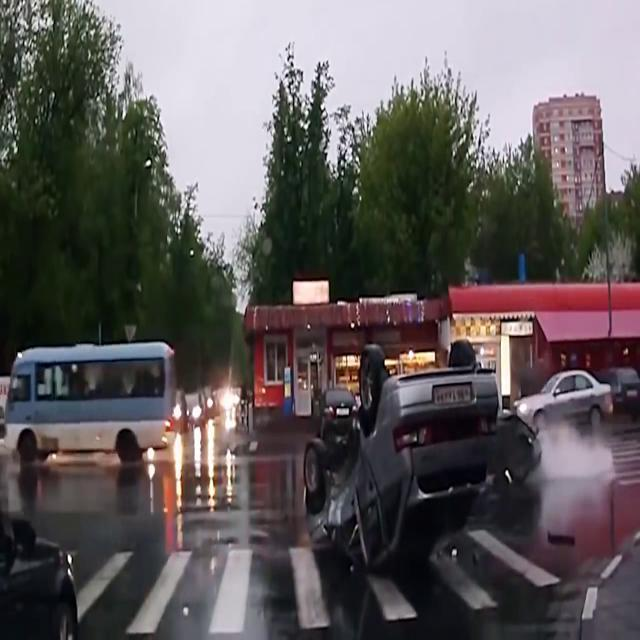accident: (301, 340, 504, 580)
non-accident: (171, 388, 237, 428)
